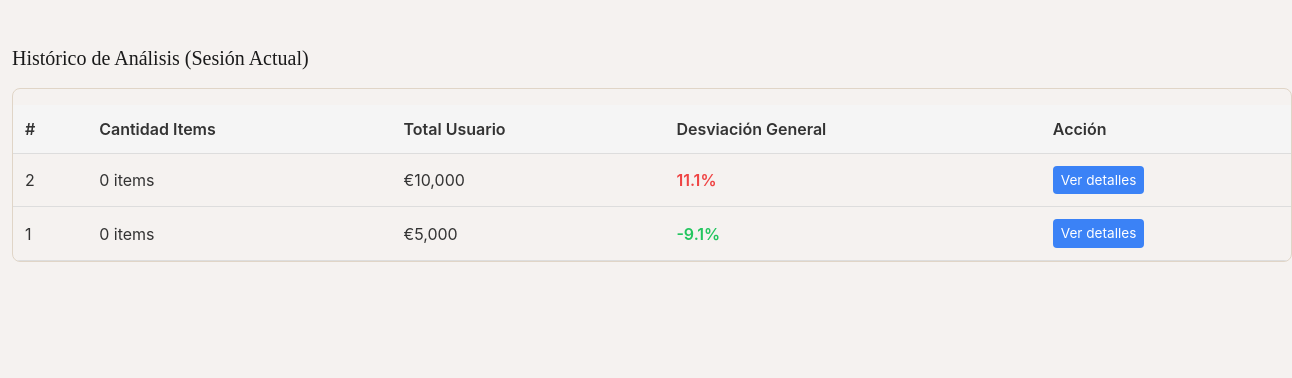
Test: AnalisisHistorico › vuelve al listado al click "← Volver al listado"
Click the button "Ver detalles" in the row of "10,000".
click(1098, 180)  # box [1053, 166, 1144, 194]
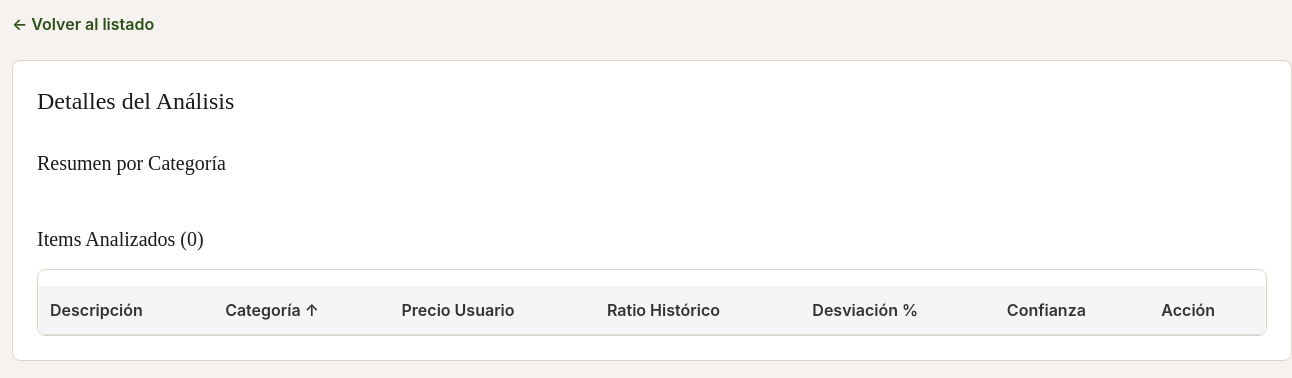
Click the button "← Volver al listado".
click(83, 24)  # box [12, 12, 154, 36]
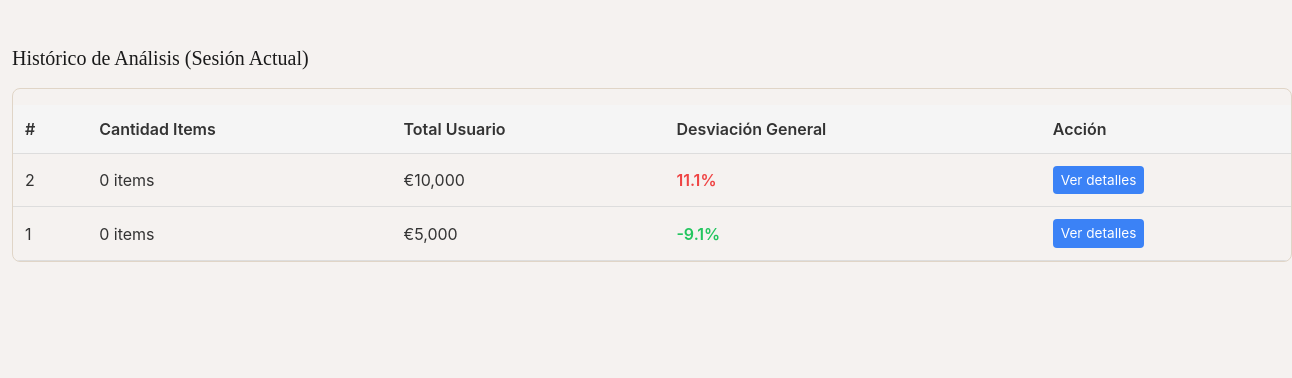
Check: the heading "Detalles del Análisis" is gone
Check: the text "€10,000" is shown, box [392, 154, 664, 207]
